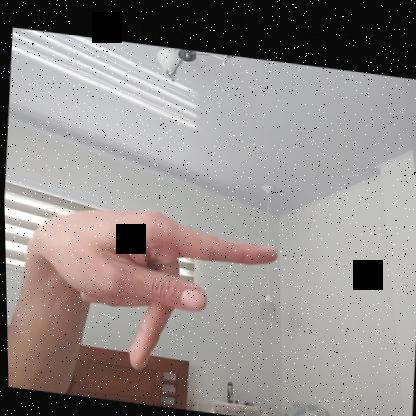P: (29, 193, 282, 386)
